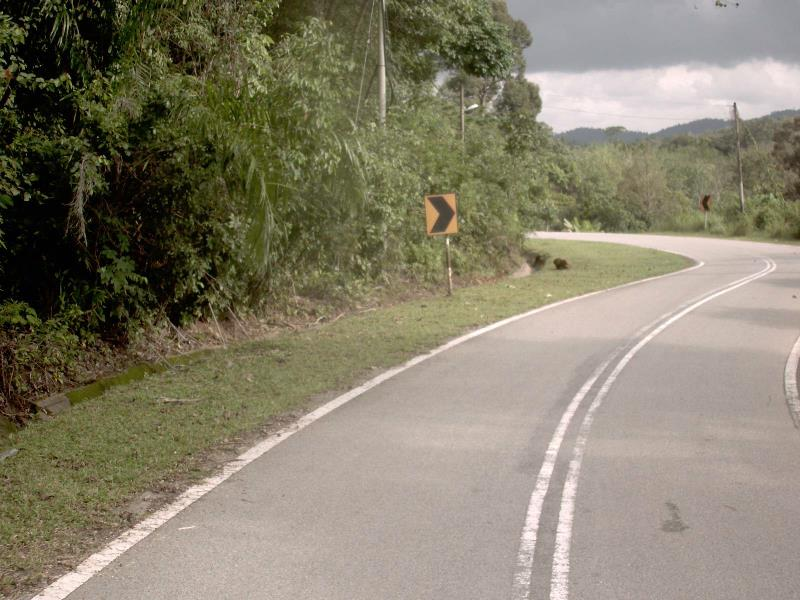traffic_sign: (416, 183, 468, 247)
